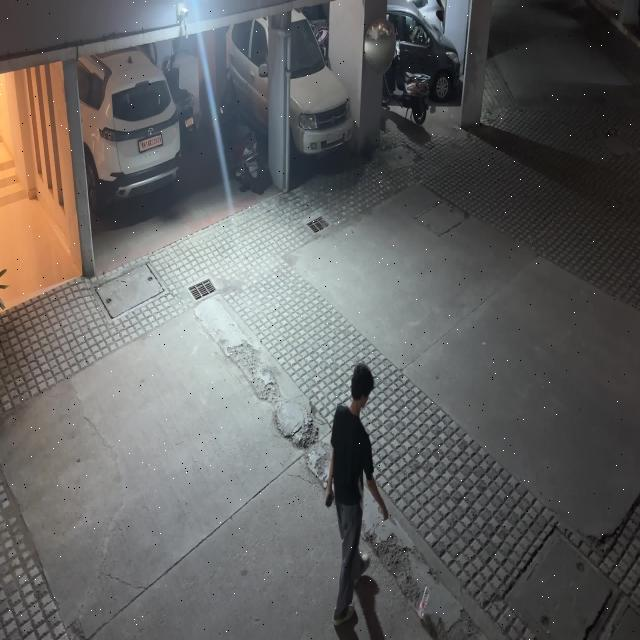human: (307, 349, 394, 637)
trash: (416, 574, 433, 625)
